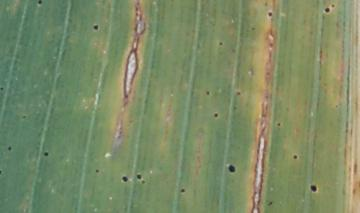tarspot: (227, 163, 237, 174), (308, 183, 318, 193), (120, 174, 129, 184), (265, 199, 274, 207), (323, 6, 331, 14), (267, 11, 275, 19), (217, 40, 225, 48), (92, 23, 100, 31), (274, 121, 283, 128), (178, 187, 187, 194), (212, 111, 219, 119), (42, 150, 49, 157), (135, 173, 142, 180), (140, 178, 147, 185), (235, 90, 242, 97), (292, 153, 298, 161), (93, 168, 101, 174), (249, 26, 257, 32), (330, 2, 336, 9), (204, 89, 210, 96), (36, 1, 43, 6), (7, 144, 12, 151), (21, 113, 26, 120), (263, 1, 268, 7), (1, 86, 6, 91), (1, 168, 2, 177)
